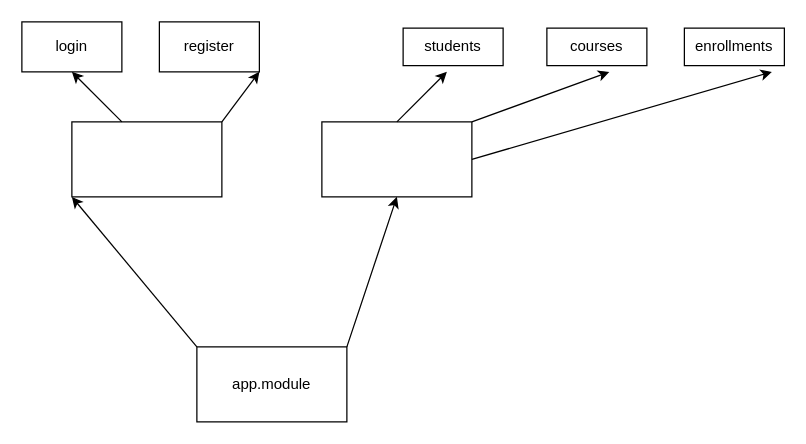
The diagram is 806 pixels wide and 444 high, and some of its shapes have lost their labels. The centre of each missing label's shape, as x and y in pixels:
"APP (Dasboard) panel administrativo" belongs at point 396,159.
"Autenticación" belongs at point 146,159.
